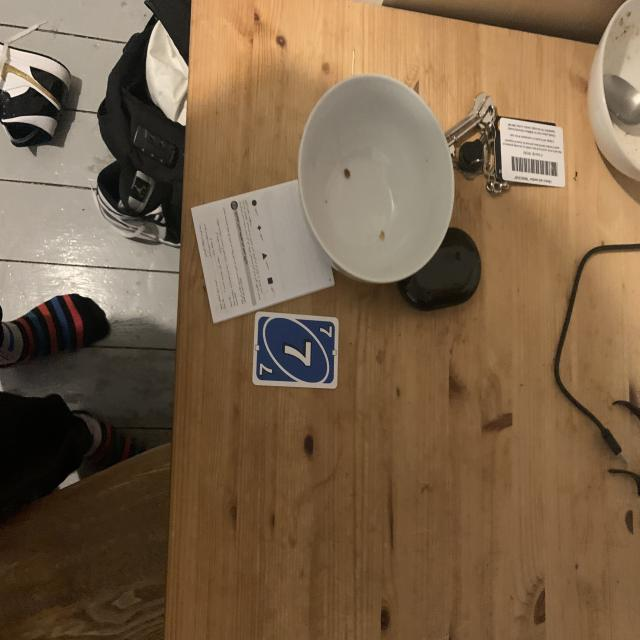lblue-7: (317, 321, 334, 339)
